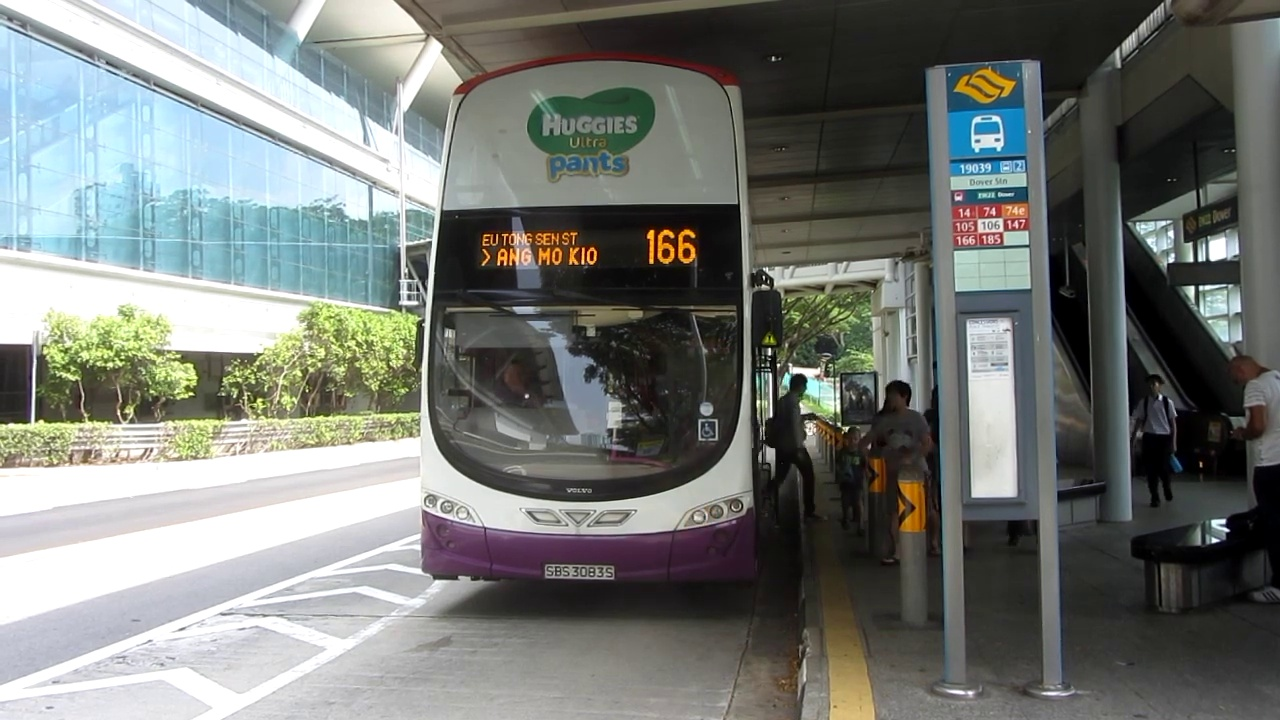bus panel: (474, 227, 702, 272)
